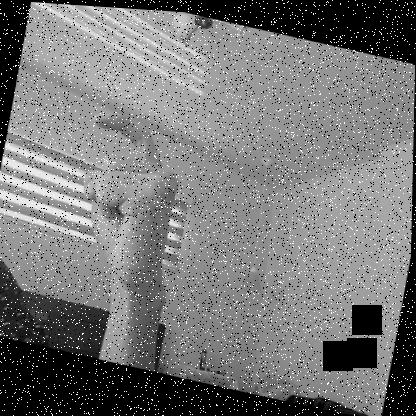X: (61, 102, 198, 301)
